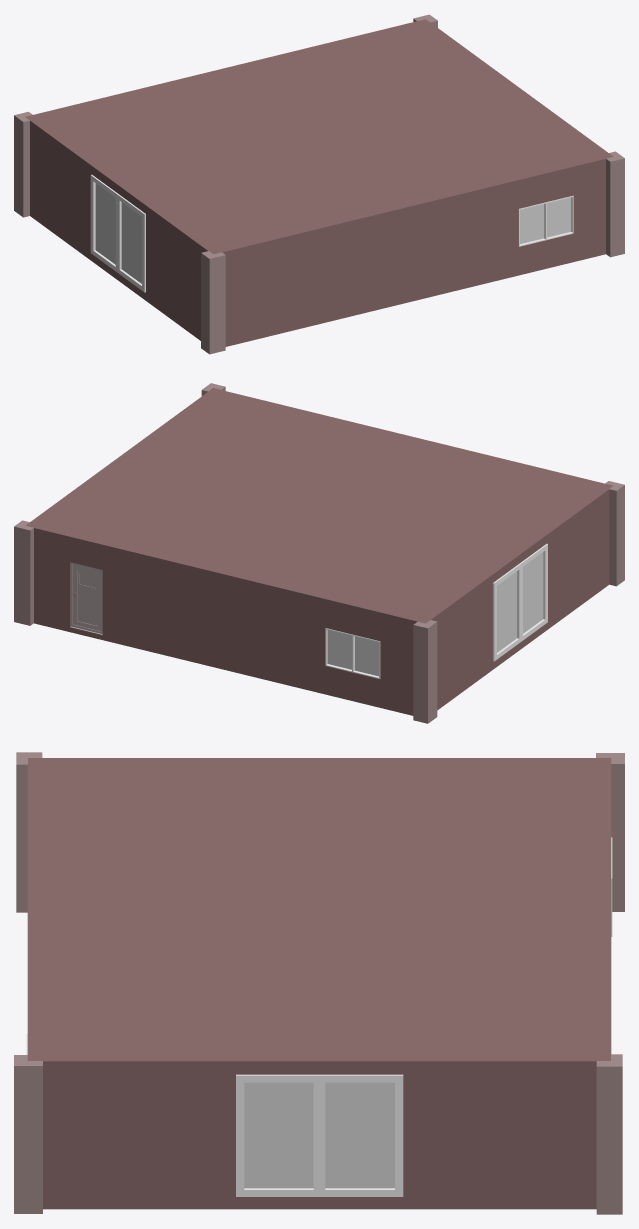
File: House_6.fbx
3 views of the same model, one above another, from view 1: azimuth 30°, elevation 25°; view 2: azimuth 150°, elevation 25°; view 3: azimuth 270°, elevation 25° (orthographic). The views are drawn at different scales.
Parts seen in each view (by area): view 1: House_6_Body, House_6_Window.007, House_6_Window; view 2: House_6_Body, House_6_Window.007, Hoouse_6_Door, House_6_Window.004; view 3: House_6_Body, House_6_Window.001.
Part boxes in pixels (x1,y1,x2,y2): House_6_Body: [14, 14, 624, 354]; House_6_Window.007: [95, 183, 141, 283]; House_6_Window: [520, 197, 571, 243]; House_6_Body: [14, 383, 624, 723]; House_6_Window.007: [497, 552, 543, 652]; Hoouse_6_Door: [70, 562, 102, 633]; House_6_Window.004: [327, 630, 378, 676]; House_6_Body: [14, 752, 624, 1214]; House_6_Window.001: [244, 1082, 394, 1188].
Size of the model in its own units: 1275 by 280 by 1047.
